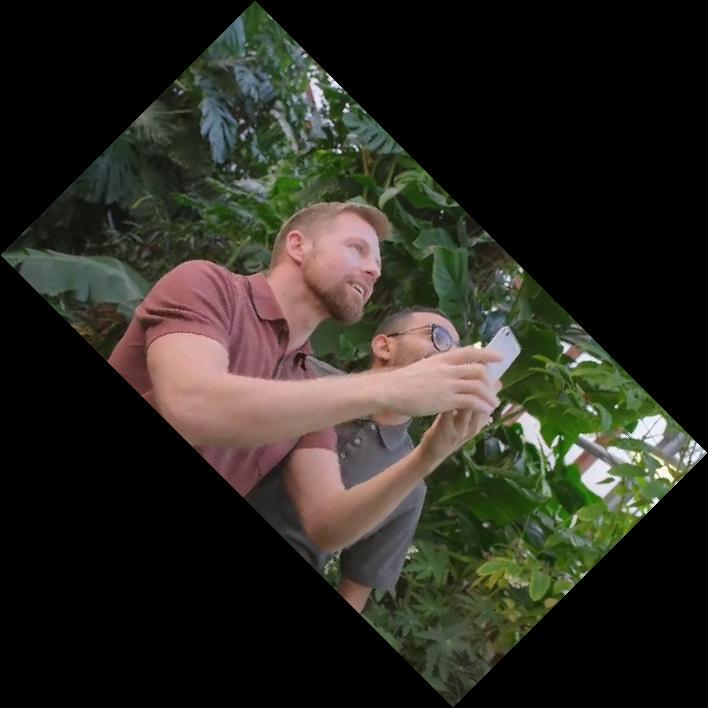phone: (475, 321, 522, 390)
